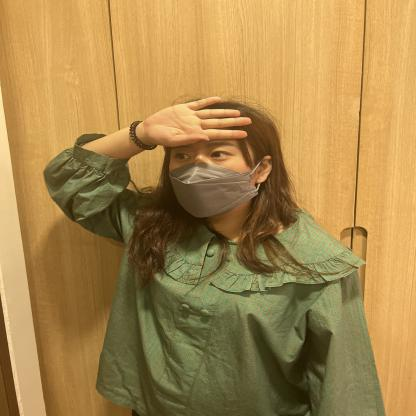Sick: (57, 69, 357, 188)
